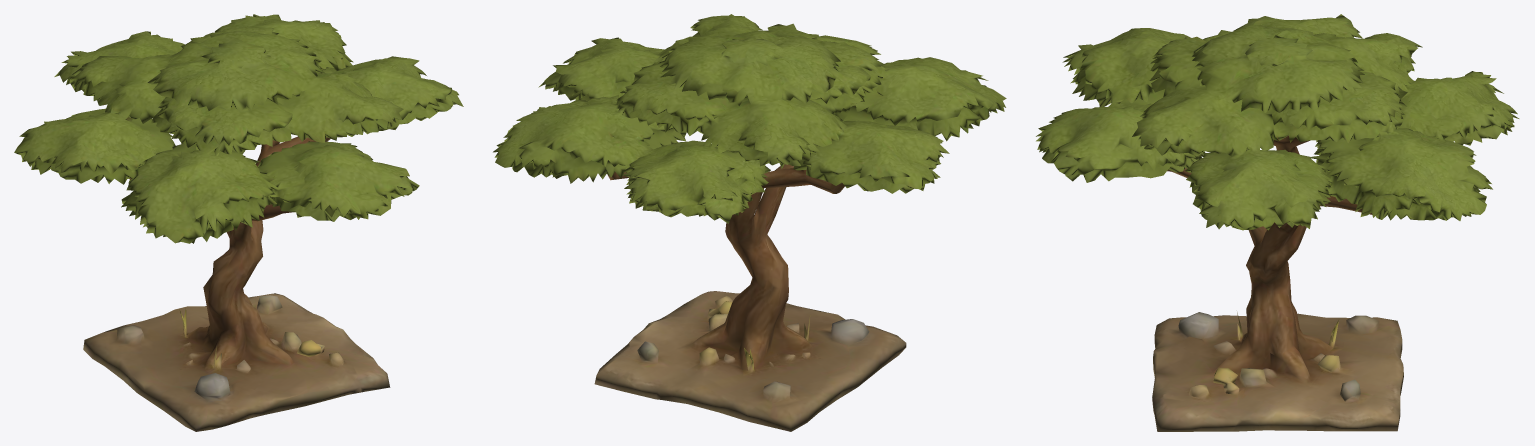
The model's file is journey_tree.glb.
The picture shows the model from 3 angles, left to right: view 1: azimuth 30°, elevation 25°; view 2: azimuth 150°, elevation 25°; view 3: azimuth 270°, elevation 25°; orthographic projection. The views are drawn at different scales.
Parts seen in each view (by area): view 1: tripo_node_d0148457-d610-4cac-a027-1ad2ea6a7e7d; view 2: tripo_node_d0148457-d610-4cac-a027-1ad2ea6a7e7d; view 3: tripo_node_d0148457-d610-4cac-a027-1ad2ea6a7e7d.
Part boxes in pixels (box(x1,y1,x2,y2)): tripo_node_d0148457-d610-4cac-a027-1ad2ea6a7e7d: box(14, 14, 463, 431); tripo_node_d0148457-d610-4cac-a027-1ad2ea6a7e7d: box(493, 14, 1006, 431); tripo_node_d0148457-d610-4cac-a027-1ad2ea6a7e7d: box(1036, 14, 1519, 431).
Size of the model in its own units: 0.9974 by 0.7661 by 1.
1 material, 1 textured.
